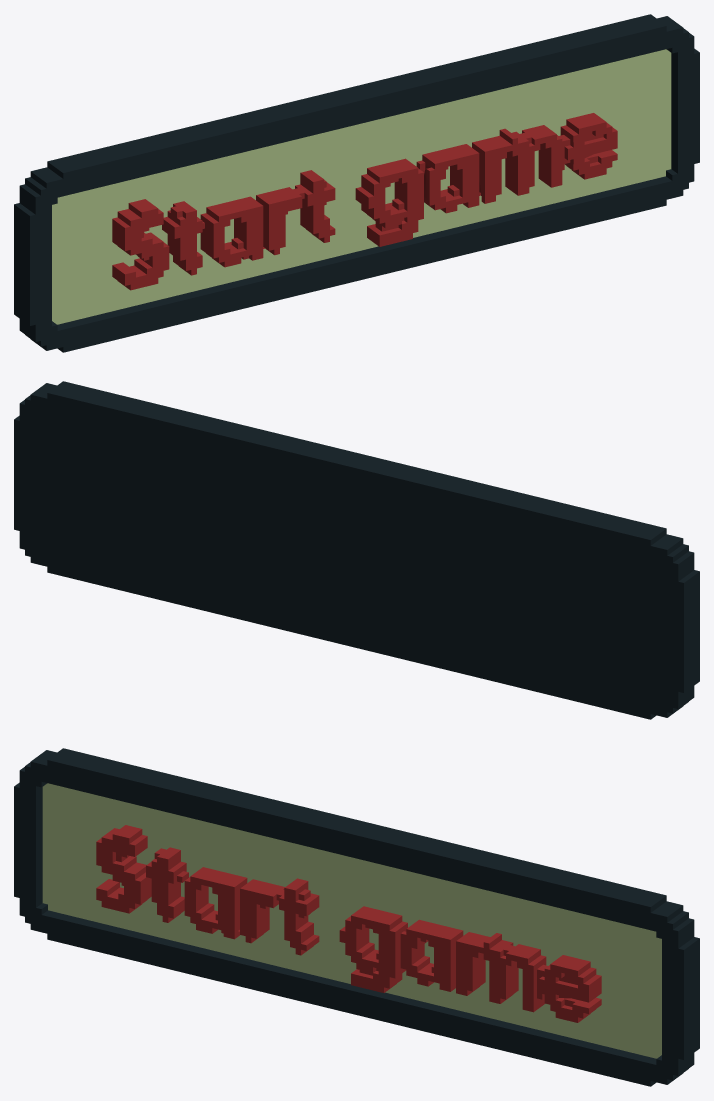
File: button_start.fbx
The picture shows the model from 3 angles, top to bottom: view 1: azimuth 30°, elevation 25°; view 2: azimuth 150°, elevation 25°; view 3: azimuth 330°, elevation 25°; orthographic projection.
Parts seen in each view (by area): view 1: OUT; view 2: OUT; view 3: OUT.
Boxes of the visible parts, x1,y1,x2,y2 form: OUT: [14, 14, 699, 352]; OUT: [14, 381, 699, 719]; OUT: [14, 748, 699, 1086].
Size of the model in its own units: 6.05 by 1.55 by 0.3502.
